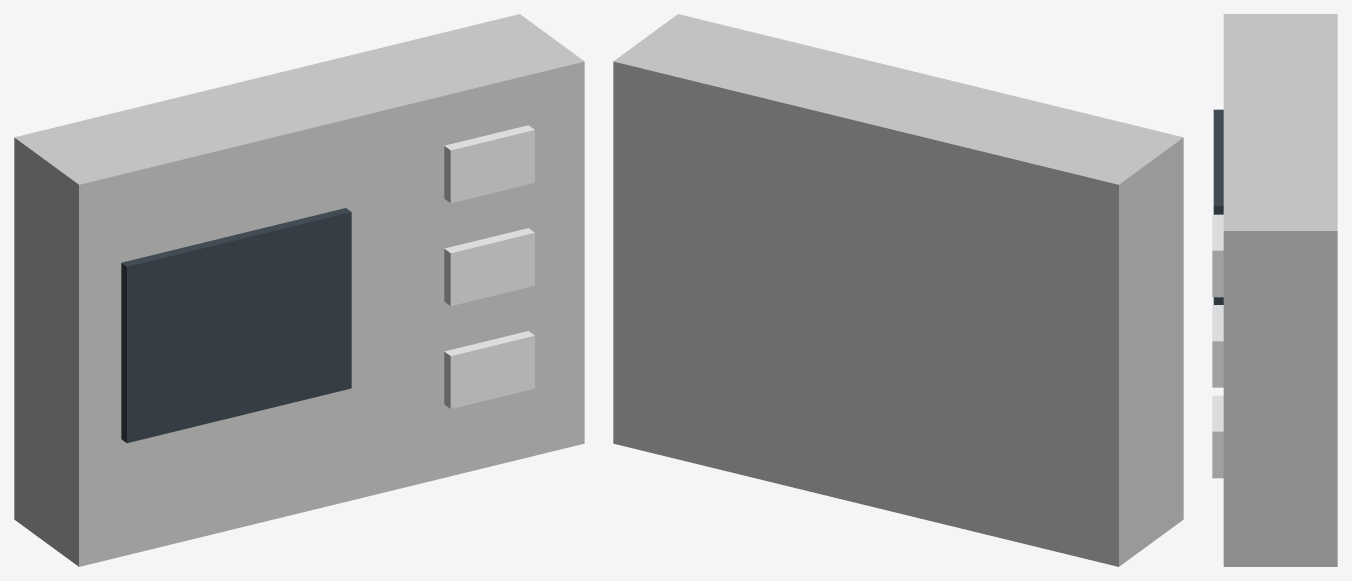
Rendered from intercom.glb.
3 renders of one model, left to right at view 1: azimuth 30°, elevation 25°; view 2: azimuth 150°, elevation 25°; view 3: azimuth 270°, elevation 25°, orthographic. The views are drawn at different scales.
Parts seen in each view (by area): view 1: intercom; view 2: intercom; view 3: intercom.
Boxes of the visible parts, x1,y1,x2,y2 form: intercom: (14, 14, 584, 566); intercom: (613, 14, 1183, 566); intercom: (1212, 14, 1337, 566).
Bounding box in the file's own units: 0.18 × 0.13 × 0.044.
